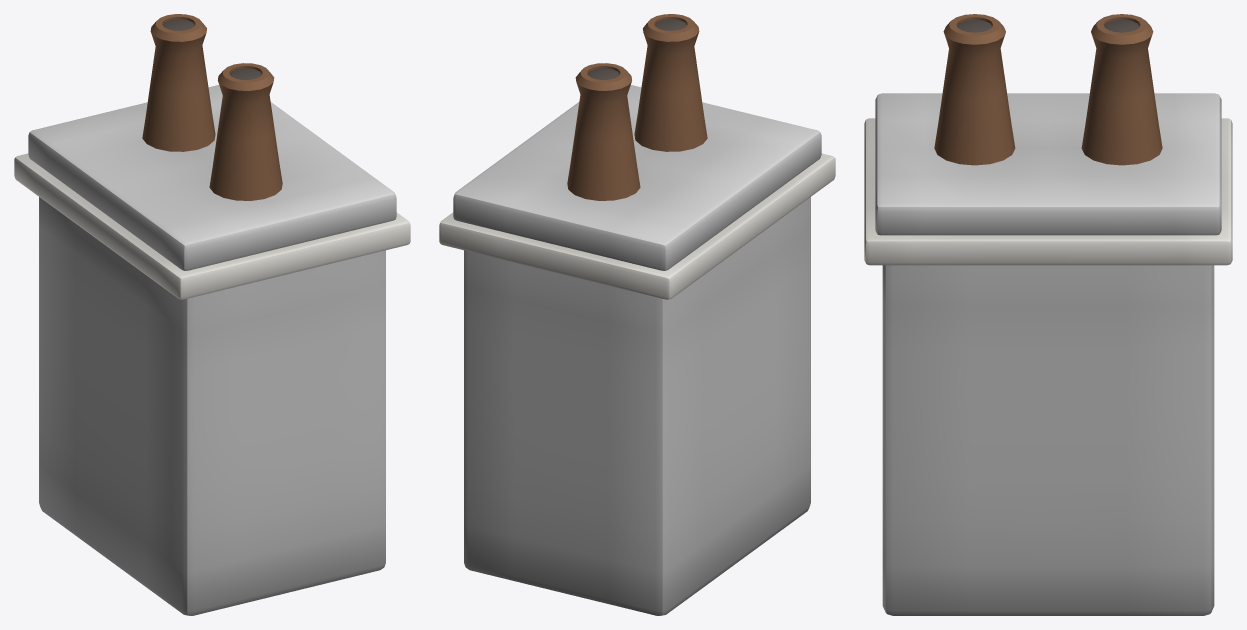
Rendered from obj_kit_chimney.glb.
3 renders of one model, left to right at view 1: azimuth 30°, elevation 25°; view 2: azimuth 150°, elevation 25°; view 3: azimuth 270°, elevation 25°, orthographic. The views are drawn at different scales.
Visible parts, largest first — view 1: Cube, Cube.002, Cube.001, pot, pot.001; view 2: Cube, Cube.002, Cube.001, pot.001, pot; view 3: Cube, Cube.002, Cube.001, pot, pot.001.
Boxes of the visible parts, x1=… form: Cube: x1=39, y1=197, x2=385, y2=615; Cube.002: x1=28, y1=85, x2=396, y2=270; Cube.001: x1=14, y1=153, x2=410, y2=299; pot: x1=209, y1=63, x2=282, y2=200; pot.001: x1=142, y1=14, x2=215, y2=151; Cube: x1=464, y1=197, x2=810, y2=615; Cube.002: x1=453, y1=85, x2=821, y2=270; Cube.001: x1=439, y1=153, x2=835, y2=299; pot.001: x1=567, y1=63, x2=640, y2=200; pot: x1=634, y1=14, x2=707, y2=151; Cube: x1=882, y1=265, x2=1214, y2=615; Cube.002: x1=875, y1=93, x2=1221, y2=235; Cube.001: x1=864, y1=118, x2=1232, y2=265; pot: x1=934, y1=14, x2=1015, y2=165; pot.001: x1=1081, y1=14, x2=1162, y2=165.
Bounding box in the file's own units: 0.8 × 1.62 × 1.
